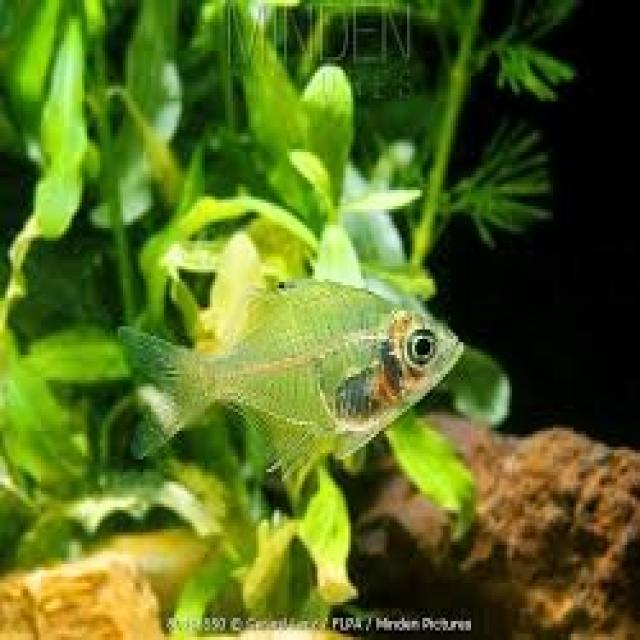Glass-Perchlet: (110, 202, 478, 477)
